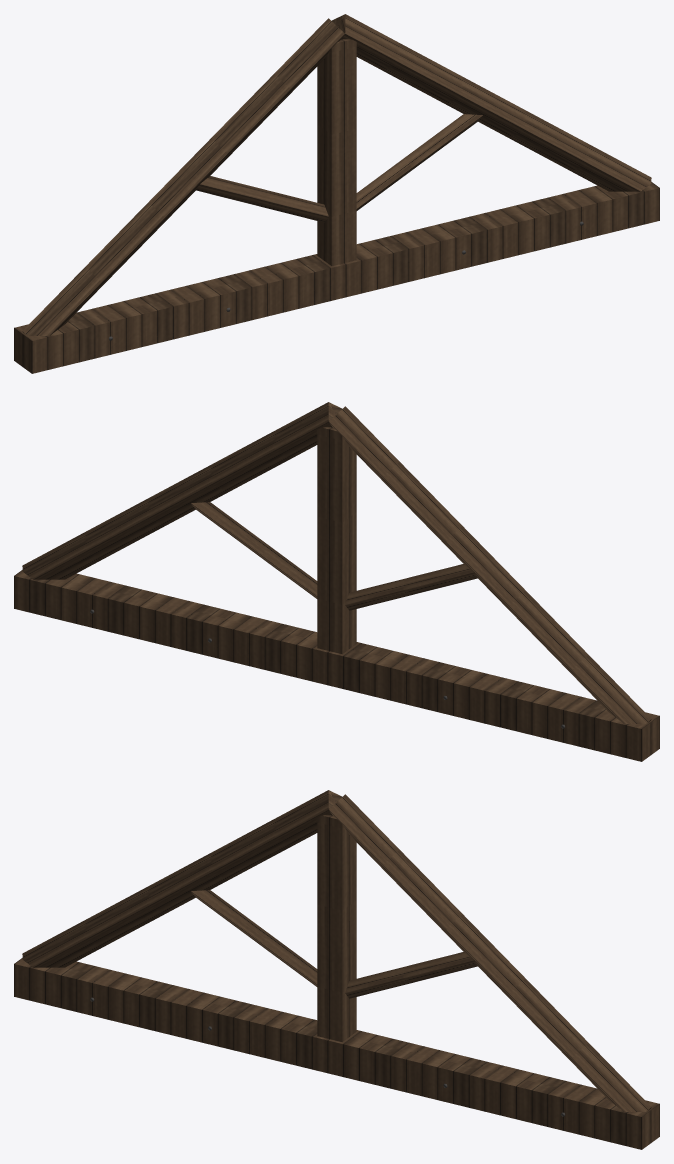
Rendered from Beam_Truss_1_LOD1.gltf.
3 views of the same model, one above another, from view 1: azimuth 30°, elevation 25°; view 2: azimuth 150°, elevation 25°; view 3: azimuth 330°, elevation 25° (orthographic).
Parts seen in each view (by area): view 1: Beam_Truss_1_LOD1; view 2: Beam_Truss_1_LOD1; view 3: Beam_Truss_1_LOD1.
Boxes of the visible parts, left/top/right/bottom form: Beam_Truss_1_LOD1: left=14, top=14, right=659, bottom=373; Beam_Truss_1_LOD1: left=14, top=402, right=659, bottom=761; Beam_Truss_1_LOD1: left=14, top=790, right=659, bottom=1149.
Bounding box in the file's own units: 8.01 × 3.34 × 0.42.
2 materials, 2 textured.
